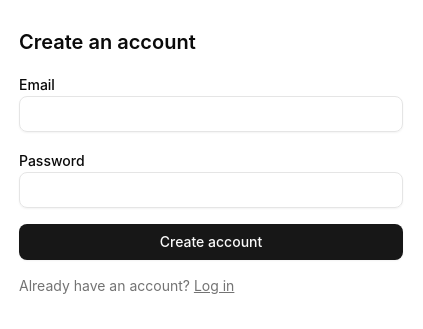
Test case: RegisterPage › shows an inline error for an invalid password without submitting
Step 1. Type "user@example.com" into the field labelled "Email" → [211, 114], box [19,96,403,132]
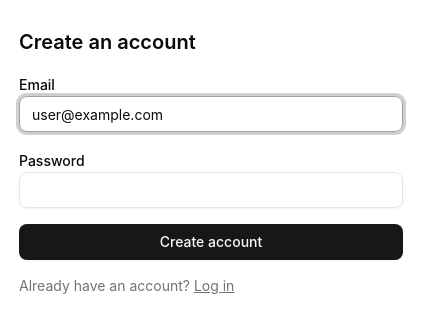
Step 2. Type "short" into the password field labelled "Password" → [211, 190], box [19,172,403,208]
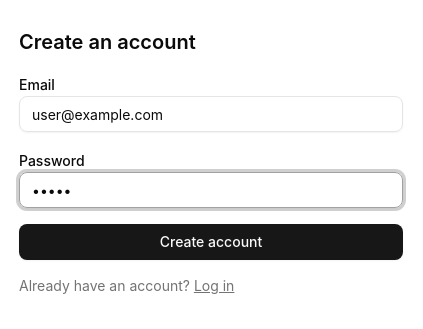
Step 3. Click the button "Create account" → [211, 242], box [19,224,403,260]
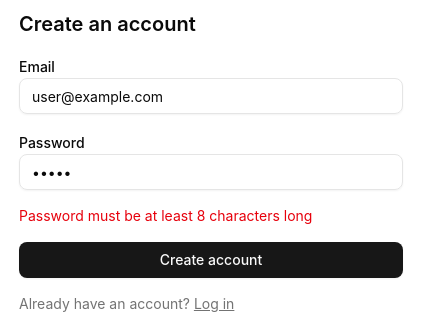
expect the message reads "Password must be at least 8 characters long": met, box [19,207,312,224]
